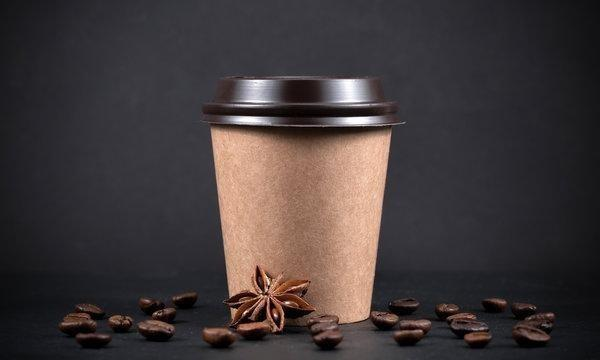cup-disposable: (197, 66, 407, 329)
